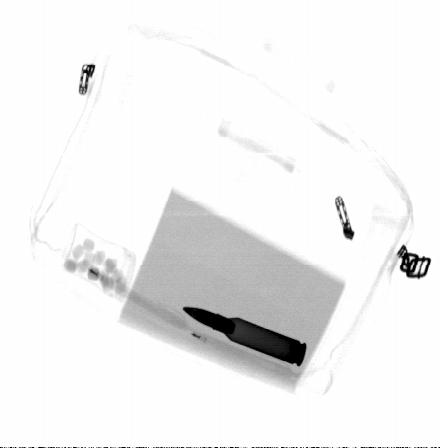Bullet: (181, 306, 308, 368)
